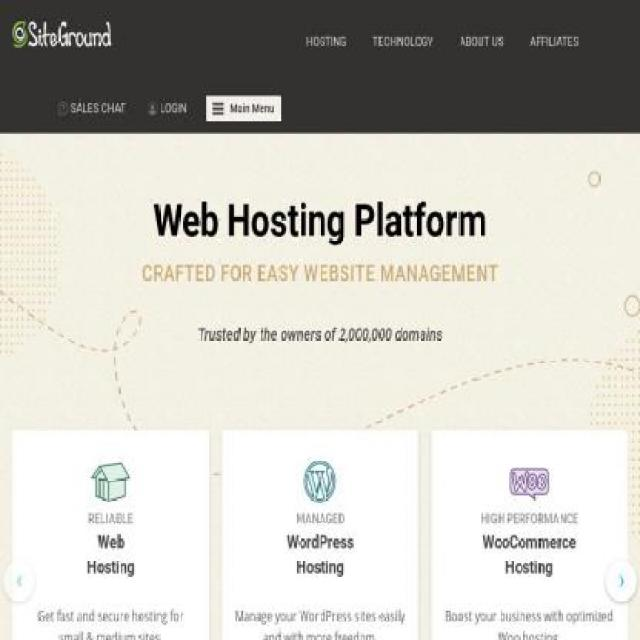button: (48, 83, 135, 134), (360, 16, 446, 67), (516, 16, 592, 67), (446, 16, 517, 67), (293, 16, 359, 67), (134, 83, 200, 134), (12, 20, 111, 48), (205, 96, 281, 121), (2, 560, 35, 602), (605, 560, 638, 602)
